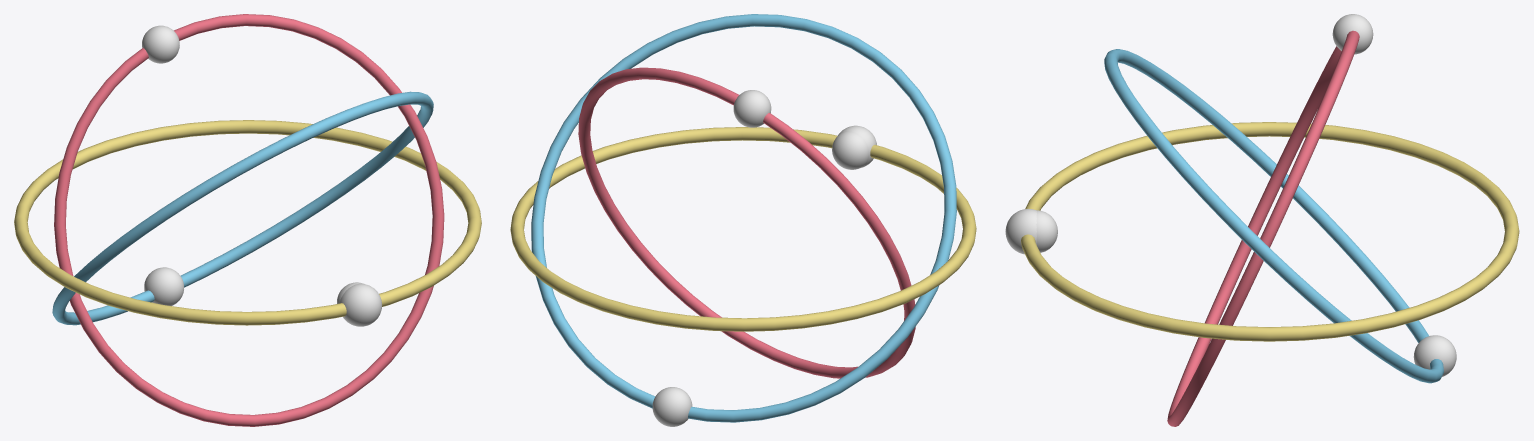
File: science.glb
3 renders of one model, left to right at view 1: azimuth 30°, elevation 25°; view 2: azimuth 150°, elevation 25°; view 3: azimuth 270°, elevation 25°, orthographic. The views are drawn at different scales.
Visible parts, largest first — view 1: BezierCircle.001, BezierCircle, BezierCircle.002, Sphere, Sphere.002, Sphere.003; view 2: BezierCircle.002, BezierCircle, BezierCircle.001, Sphere.002, Sphere.001, Sphere.003; view 3: BezierCircle, BezierCircle.002, BezierCircle.001, Sphere.002, Sphere.003, Sphere, Sphere.001.
Boxes of the visible parts, left/top/right/bottom form: BezierCircle.001: left=54, top=14, right=444, bottom=426; BezierCircle: left=14, top=120, right=481, bottom=325; BezierCircle.002: left=52, top=91, right=433, bottom=325; Sphere: left=340, top=283, right=381, bottom=326; Sphere.002: left=144, top=267, right=183, bottom=305; Sphere.003: left=142, top=25, right=179, bottom=63; BezierCircle.002: left=531, top=14, right=956, bottom=422; BezierCircle: left=510, top=127, right=976, bottom=331; BezierCircle.001: left=578, top=67, right=915, bottom=378; Sphere.002: left=652, top=387, right=692, bottom=426; Sphere.001: left=832, top=131, right=869, bottom=169; Sphere.003: left=733, top=90, right=771, bottom=127; BezierCircle: left=1021, top=122, right=1519, bottom=341; BezierCircle.002: left=1104, top=49, right=1443, bottom=383; BezierCircle.001: left=1167, top=30, right=1359, bottom=426; Sphere.002: left=1413, top=335, right=1456, bottom=376; Sphere.003: left=1332, top=14, right=1373, bottom=54; Sphere: left=1005, top=208, right=1036, bottom=254; Sphere.001: left=1036, top=210, right=1057, bottom=252.
Bounding box in the file's own units: 2.03 × 1.66 × 2.08.
